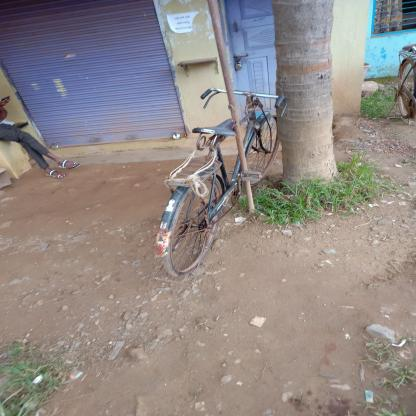bike: (152, 83, 283, 281)
